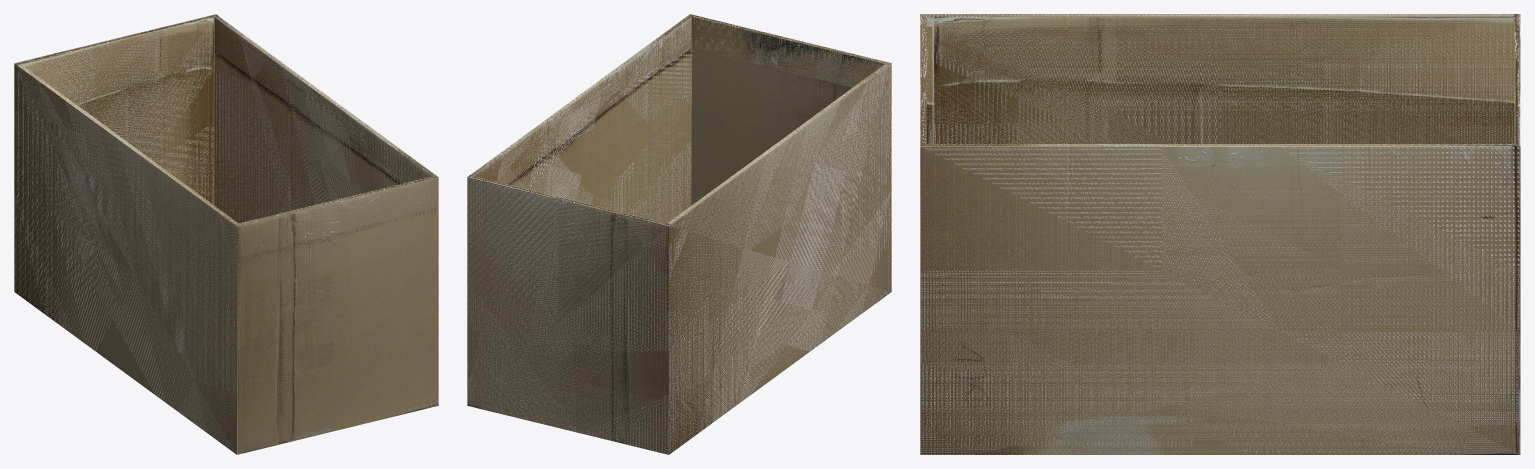
Rendered from large_carton_empty.dae.
3 views of the same model, side by side, from view 1: azimuth 30°, elevation 25°; view 2: azimuth 150°, elevation 25°; view 3: azimuth 270°, elevation 25° (orthographic). The views are drawn at different scales.
Visible parts, largest first — view 1: SketchUp (×5); view 2: SketchUp (×6); view 3: SketchUp (×2).
Boxes of the visible parts, x1,y1,x2,y2 form: SketchUp (×5): (14, 14, 438, 454); SketchUp (×6): (467, 14, 891, 454); SketchUp (×2): (920, 14, 1520, 454).
Bounding box in the file's own units: 0.4703 × 0.8995 × 0.5096.
Materials: 7 (6 with a texture image).
